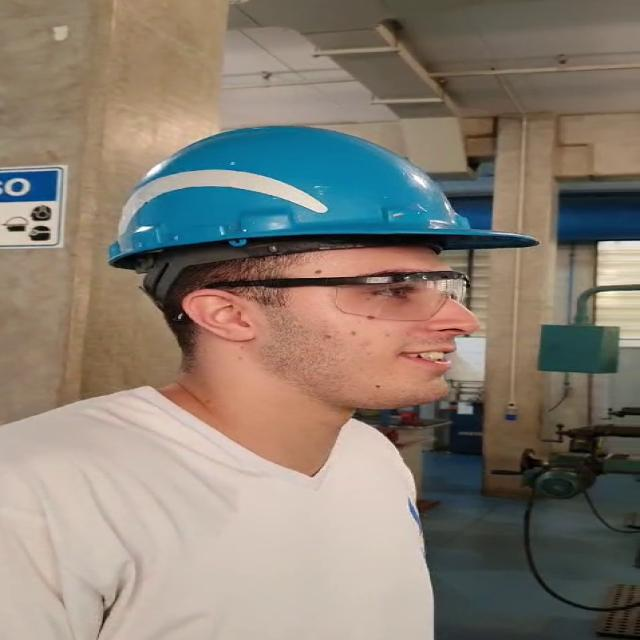oculos-epi: (205, 271, 467, 321)
